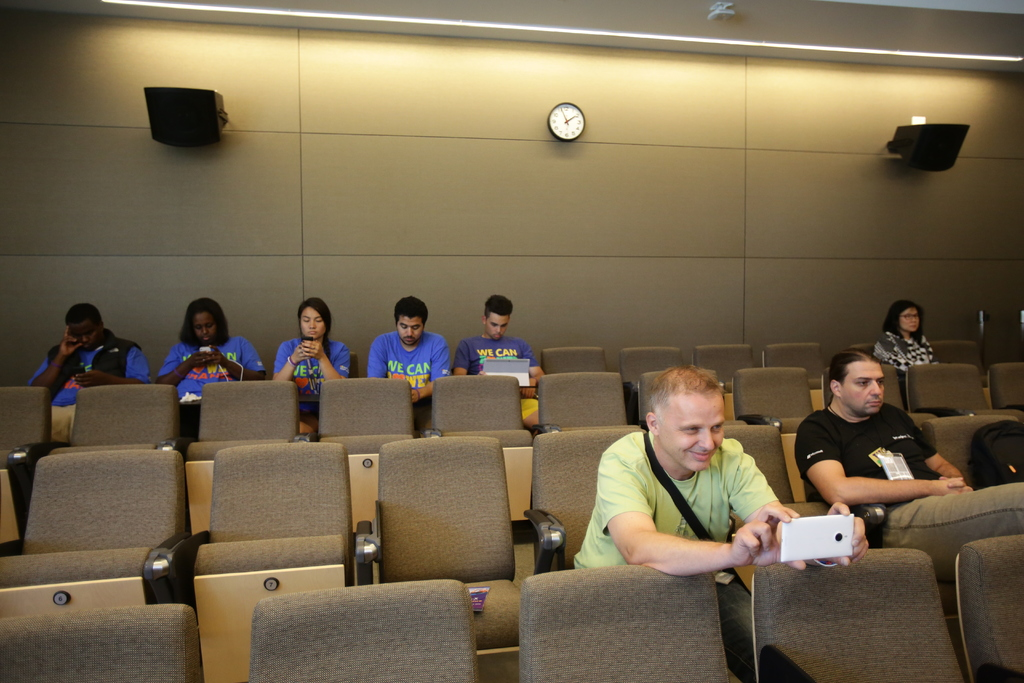Mobile-phone: (779, 509, 853, 561), (70, 361, 83, 374), (200, 343, 213, 355), (301, 334, 313, 340)
